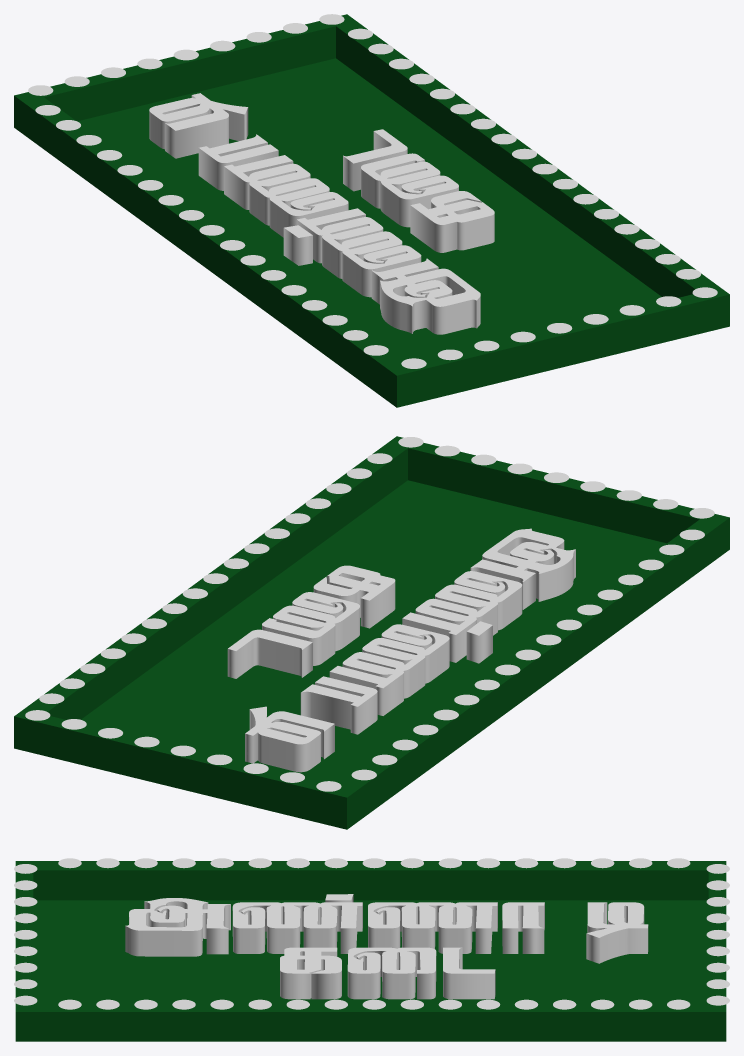
Rendered from Name Plate.fbx.
3 views of the same model, one above another, from view 1: azimuth 30°, elevation 25°; view 2: azimuth 150°, elevation 25°; view 3: azimuth 270°, elevation 25° (orthographic). The views are drawn at different scales.
Parts seen in each view (by area): view 1: Plane, Text, Circle.001; view 2: Plane, Text, Circle.001; view 3: Plane, Text, Circle.001.
Boxes of the visible parts, x1,y1,x2,y2 form: Plane: (14,14,729,407); Text: (149,93,494,334); Circle.001: (28,14,717,368); Plane: (14,436,729,829); Text: (227,528,575,772); Circle.001: (25,437,714,791); Plane: (15,861,726,1041); Text: (125,894,648,999); Circle.001: (14,858,729,1009).
Bounding box in the file's own units: 201 × 19.92 × 401.
